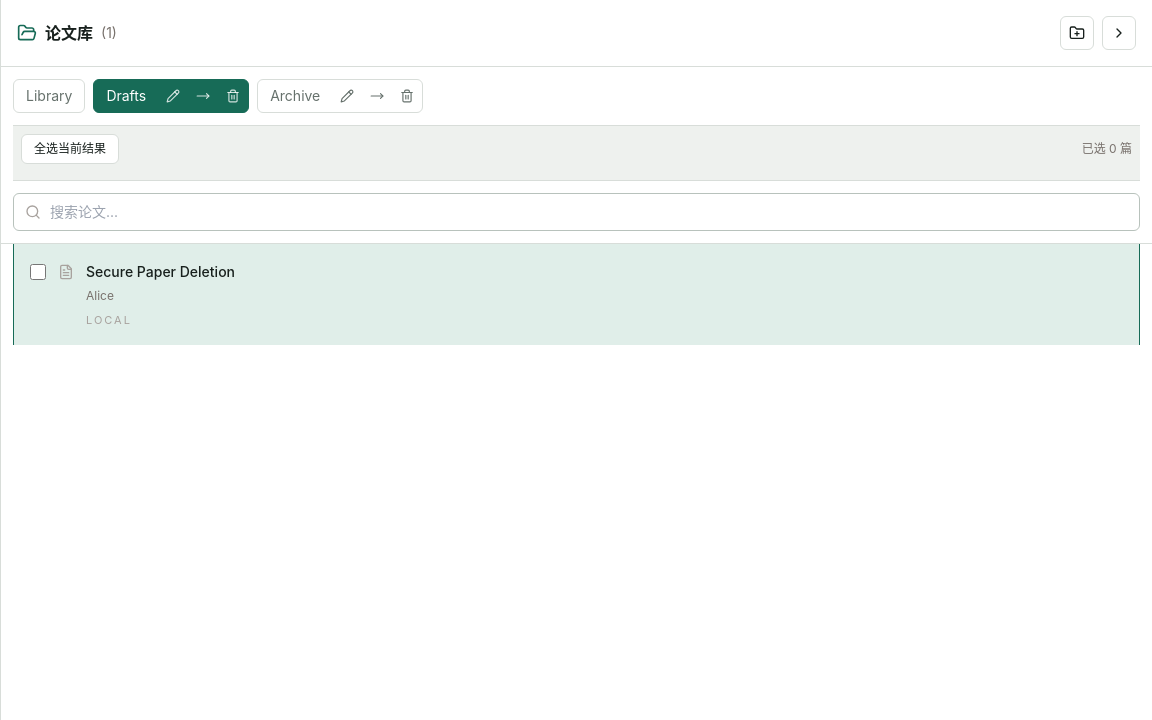
Test case: PaperListPanel › moves non-system folders under another parent and refreshes current papers
This screenshot has width=1152, height=720.
Click the button titled "移动文件夹 Drafts". click: x=203, y=96
box: [188,83,218,109]
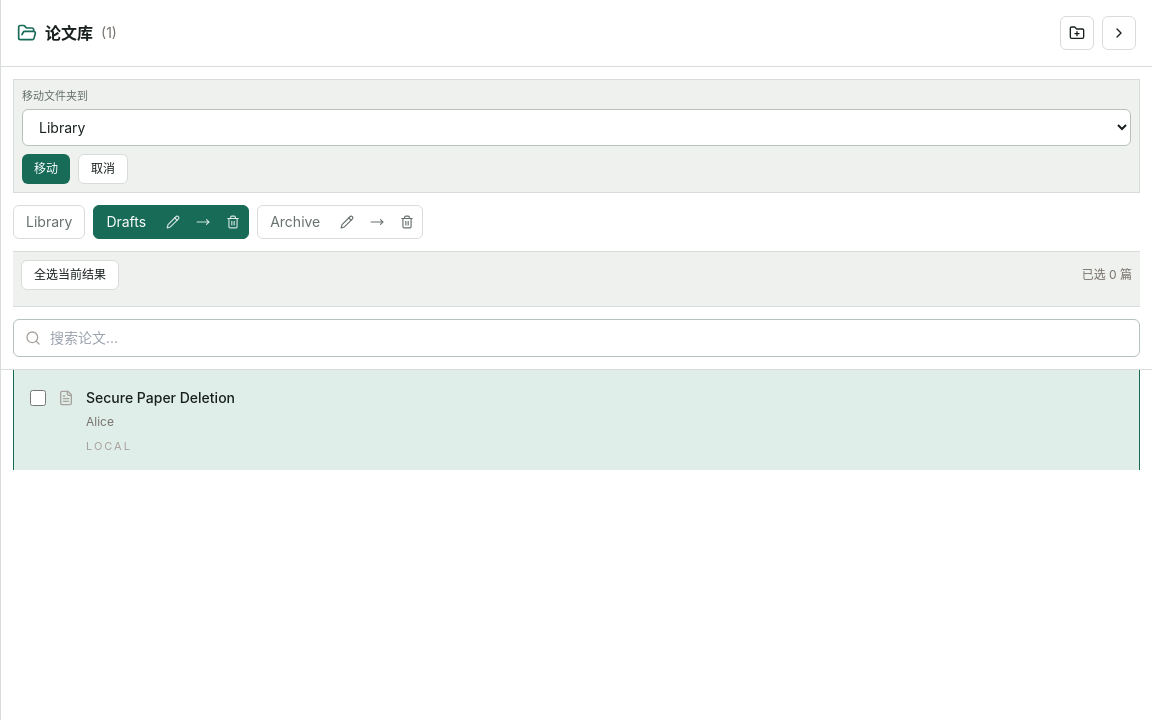
Select "Archive" in the dropdown named "移动文件夹目标父级". click: x=576, y=127
box: [22,108,1131,146]
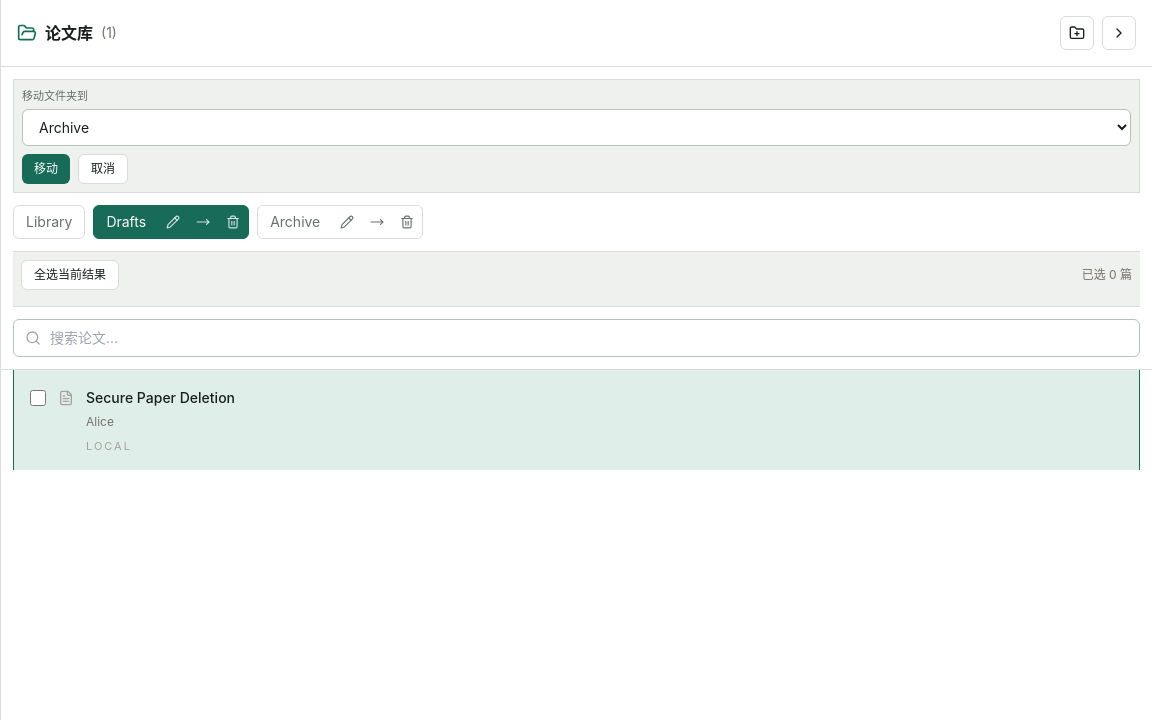
Click the button "移动". click: x=46, y=168
box: [22,154,70,184]
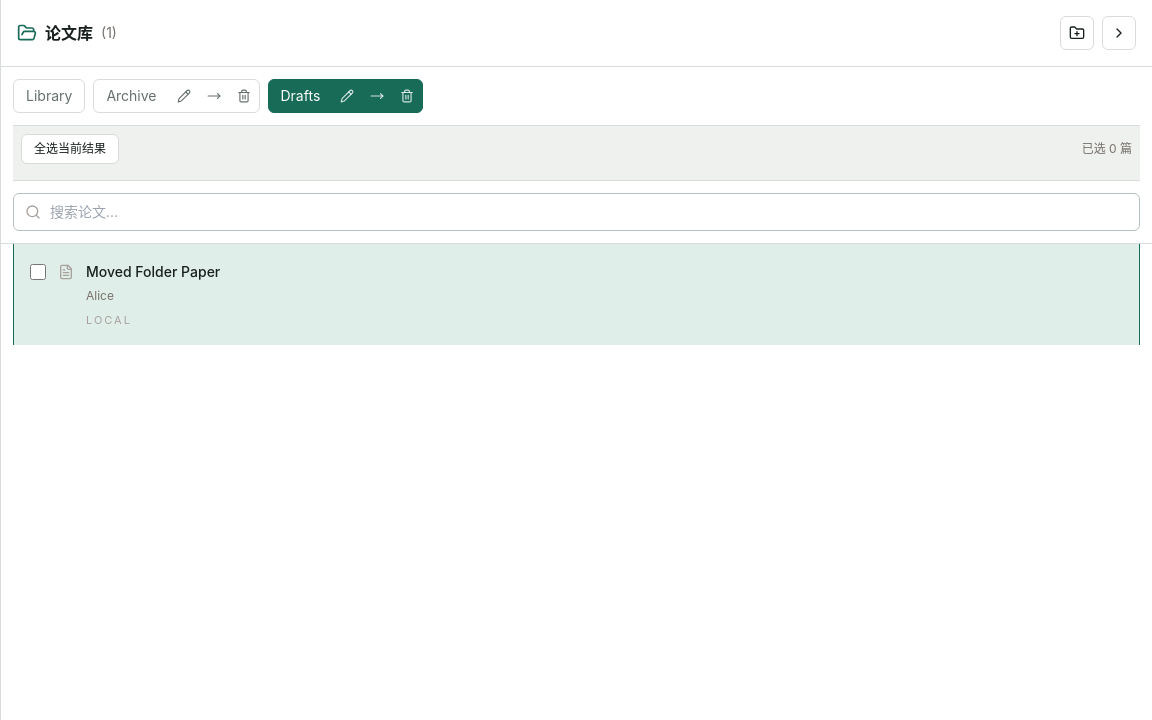
Result: the text "Moved Folder Paper" is shown at [86,263,220,280]
